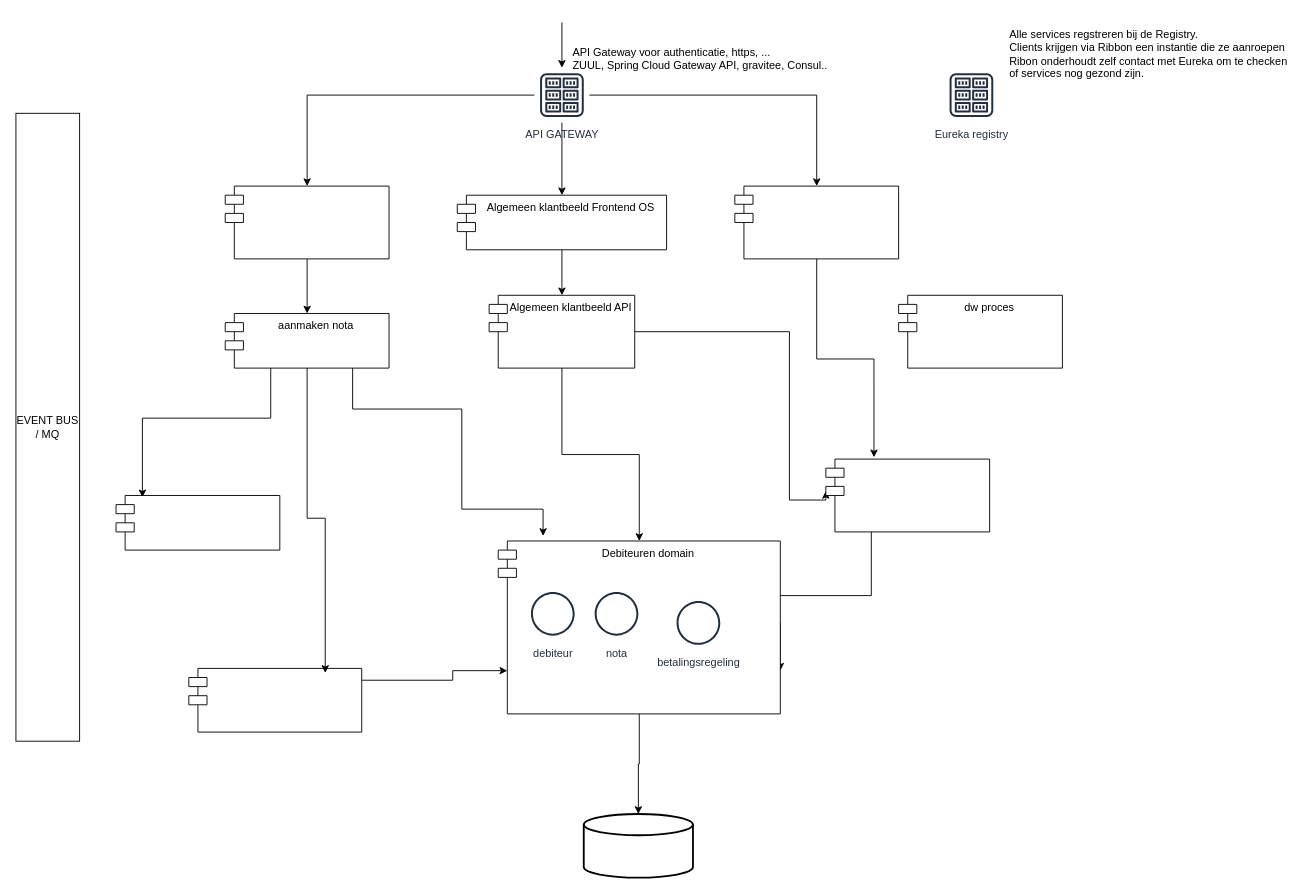
Some shapes in this 1315 by 895 pixel diagram are drawn without their labels. Here are the shapes that lost their labels. From the top down, the centre of each, then its label:
the point at 306,222: aanmaken notas api
the point at 816,222: betalingsregeling api
the point at 907,495: betalingsregeling proces
the point at 197,522: uitbetalen
the point at 275,699: vorderen
the point at 637,845: DB2
